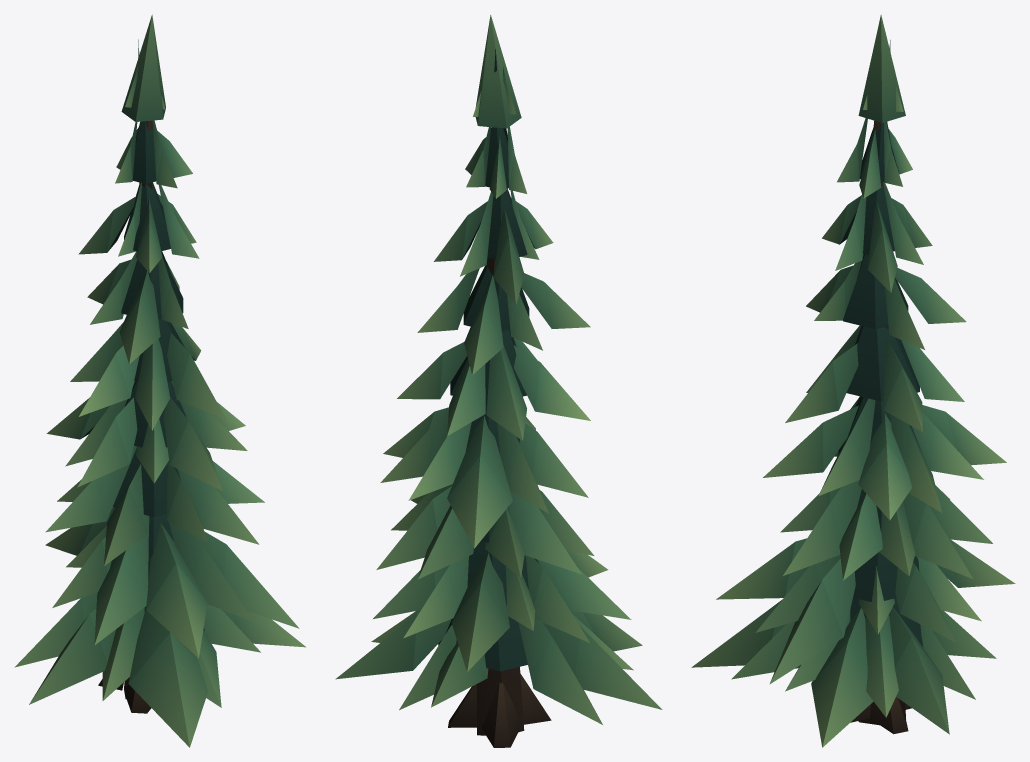
File: baum_fichte1.glb
The picture shows the model from 3 angles, left to right: view 1: azimuth 30°, elevation 25°; view 2: azimuth 150°, elevation 25°; view 3: azimuth 270°, elevation 25°; orthographic projection. The views are drawn at different scales.
Visible parts, largest first — view 1: baum_fichte1; view 2: baum_fichte1; view 3: baum_fichte1.
Boxes of the visible parts, <box> form: baum_fichte1: <box>14,14,305,747</box>; baum_fichte1: <box>335,15,662,747</box>; baum_fichte1: <box>691,14,1015,747</box>.
Size of the model in its own units: 3.9 by 9.36 by 3.91.
